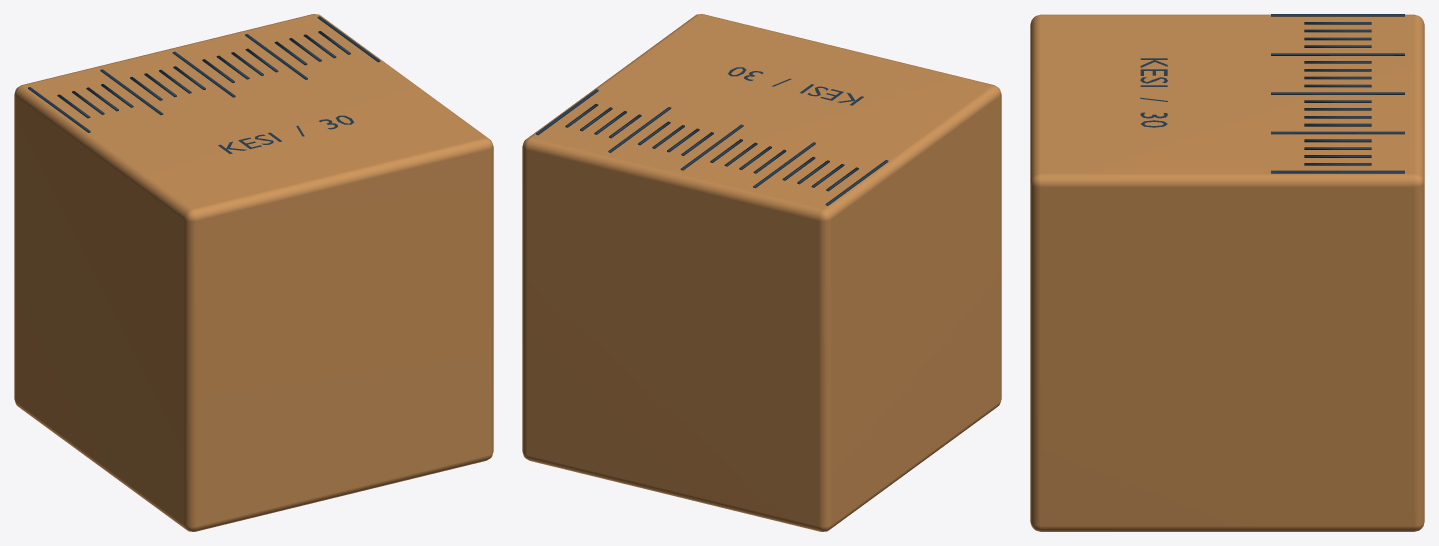
The model's file is prop_ruler_wall.glb.
3 renders of one model, left to right at view 1: azimuth 30°, elevation 25°; view 2: azimuth 150°, elevation 25°; view 3: azimuth 270°, elevation 25°, orthographic. The views are drawn at different scales.
Visible parts, largest first — view 1: Desk ruler timber, Print KESI / 30; view 2: Desk ruler timber; view 3: Desk ruler timber, Print KESI / 30, Ruler engraved mark.015, Ruler engraved mark.020.
Part boxes in pixels (<box>): Desk ruler timber: <box>14,14,493,531</box>; Print KESI / 30: <box>218,115,354,153</box>; Desk ruler timber: <box>522,14,1001,531</box>; Desk ruler timber: <box>1030,14,1424,531</box>; Print KESI / 30: <box>1140,58,1167,127</box>; Ruler engraved mark.015: <box>1271,131,1404,134</box>; Ruler engraved mark.020: <box>1271,170,1404,173</box>.
Size of the model in its own units: 0.02 by 0.0201 by 0.02.
